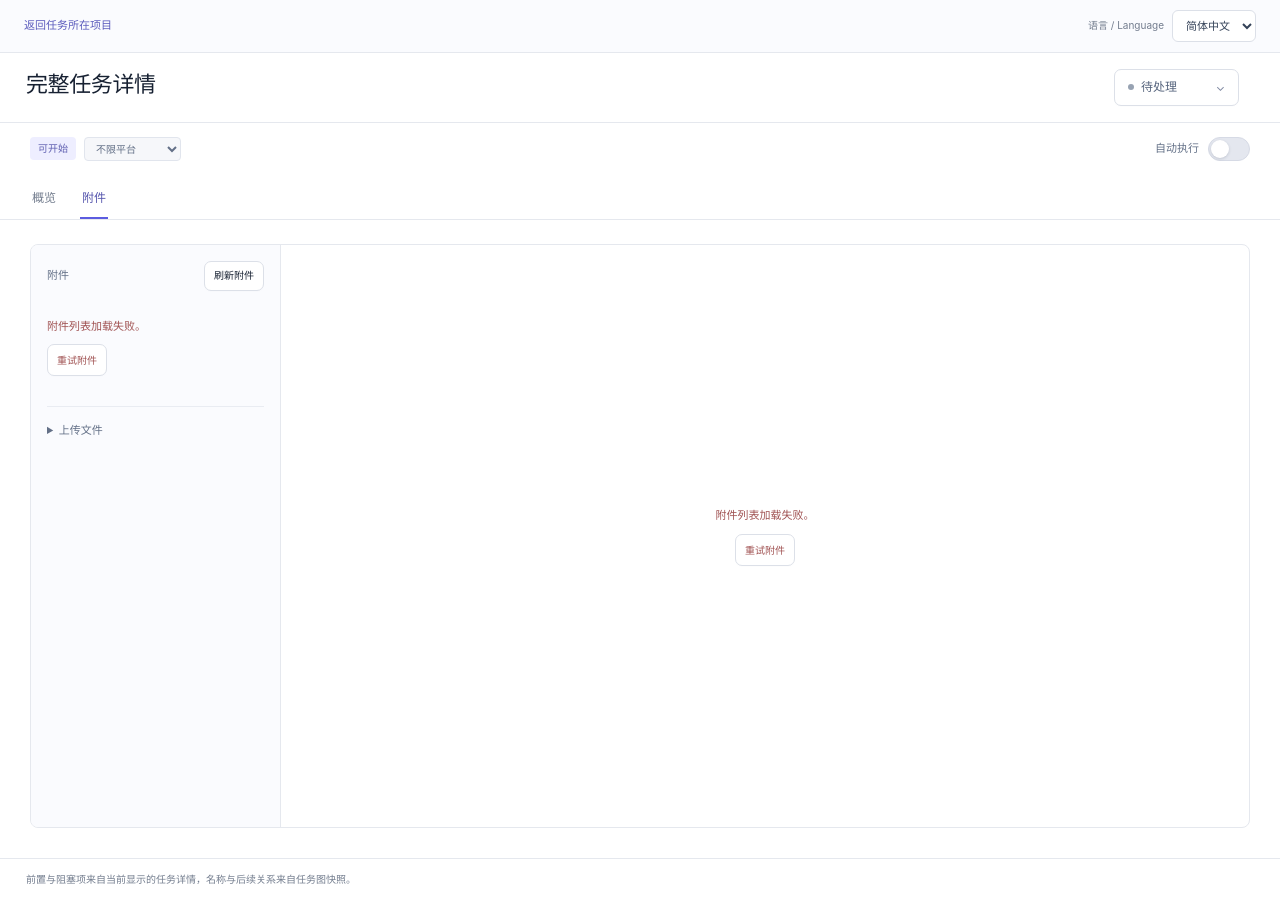
Test: full-detail attachment surface › shows an initial service failure separately from preview errors and retries each owner
Check: the 2nd message "附件列表加载失败。 重试附件" is shown, box [716, 508, 814, 566]
Check: the 2nd message "附件列表加载失败。 重试附件" does not show "private", box [716, 508, 814, 566]
Click the 2nd button "重试附件". click: (765, 550)
box: [735, 534, 795, 566]
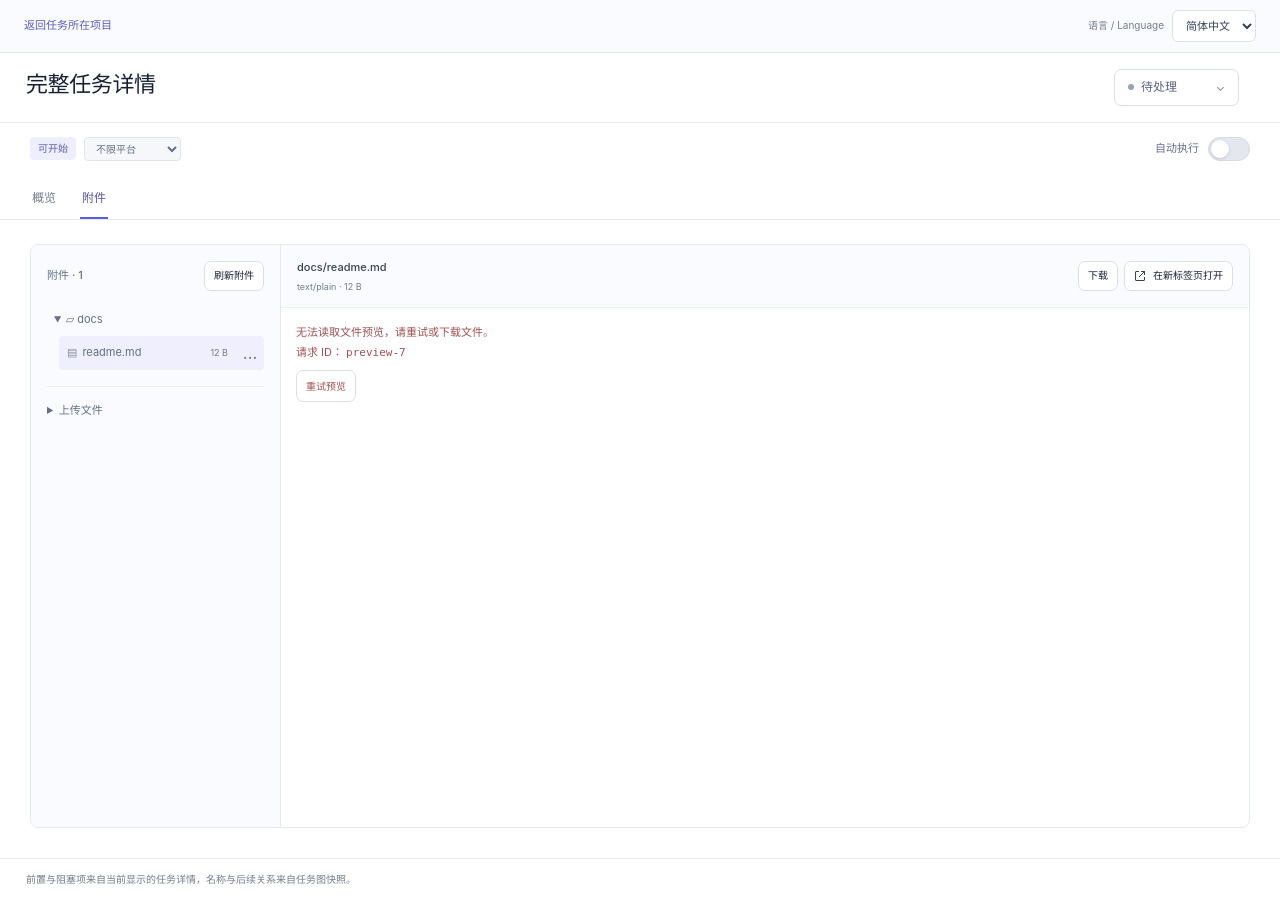
Check: the button "重试预览" is shown
Check: the message shows "无法读取文件预览", box [296, 325, 494, 339]
Check: the message shows "preview-7", box [346, 346, 406, 359]
Click the button "重试预览". click: (326, 386)
box: [296, 370, 356, 402]
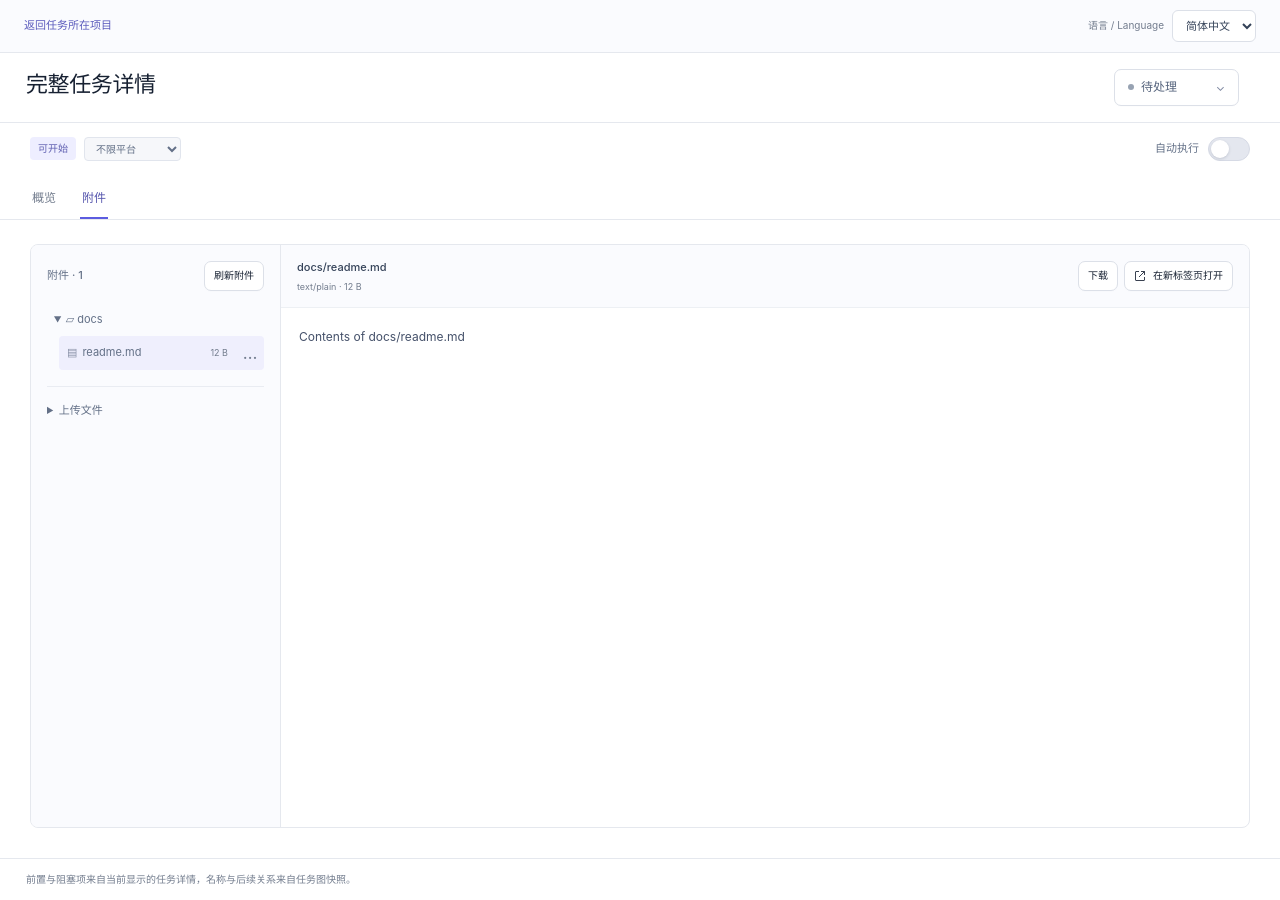
Check: the text "Contents of docs/readme.md" is shown, box [299, 329, 465, 344]
